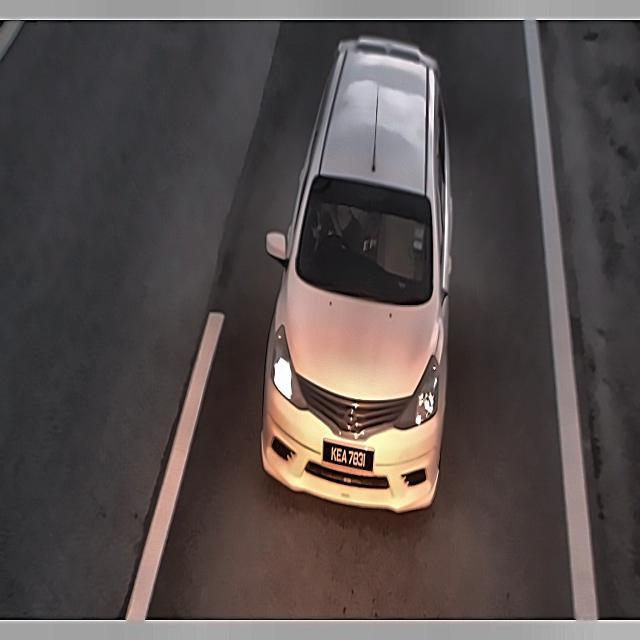car: (321, 426, 376, 486)
